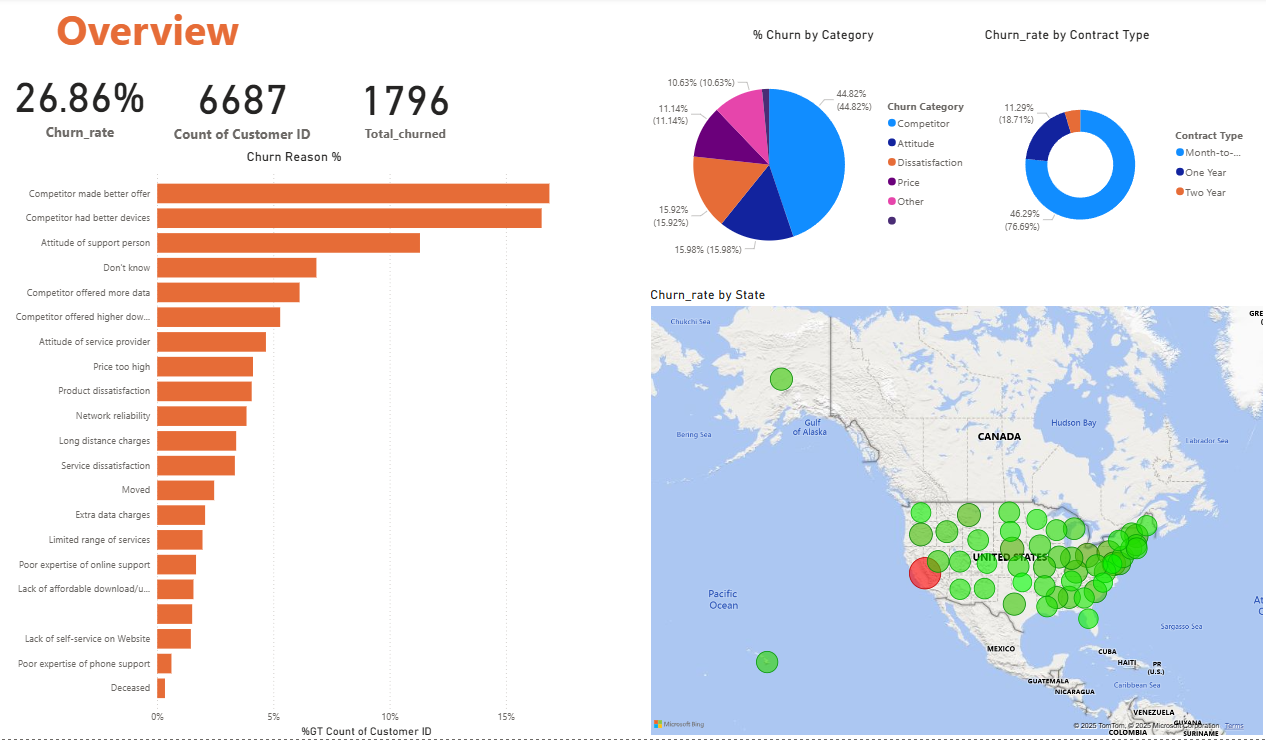

The dashboard page shown, as its layout file describes it:
{"tool":"powerbi","page":{"name":"Dashboard1","canvas":[1640,960],"ordinal":12},"visuals":[{"type":"card","fields":{"Values":["CountNonNull(Data.Customer ID)"]},"box":[206,80.2,214.7,114.9],"z":0},{"type":"card","fields":{"Values":["_Measures.Churn_rate"]},"box":[0,73.7,206,121.4],"z":1000},{"type":"card","fields":{"Values":["_Measures.Total_churn"]},"box":[420.7,80.2,206,114.9],"z":2000},{"type":"clusteredBarChart","title":"Churn Reason %","fields":{"Category":["Data.Churn Reason"],"Y":["CountNonNull(Data.Customer ID)"]},"box":[0,195.2,761.2,765.6],"z":3000},{"type":"pieChart","title":"% Churn by Category","fields":{"Category":["Data.Churn Category"],"Y":["Divide(_Measures.Count_distinct_ID, ScopedEval(_Measures.Count_distinct_ID, []))"]},"box":[837.1,39,431.6,336.2],"z":4000},{"type":"map","fields":{"Category":["Data.State"],"Size":["_Measures.Churn_rate"]},"box":[837.1,375.2,802.4,585.6],"z":5000},{"type":"donutChart","fields":{"Y":["_Measures.Churn_rate"],"Category":["Data.Contract Type"]},"box":[1268.7,39,362.2,336.2],"z":6000},{"type":"textbox","box":[67.2,0,663.6,95.4],"z":6001}]}

Visuals, with their boxes in screenshot pixels (x1, y1, x2, y2), scaled from the page's 1640x960 canvas onto the 1266x740 screenshot:
card - CountNonNull(Data.Customer ID): (x1=159, y1=62, x2=325, y2=150)
card - _Measures.Churn_rate: (x1=0, y1=57, x2=159, y2=150)
card - _Measures.Total_churn: (x1=325, y1=62, x2=484, y2=150)
"Churn Reason %" clusteredBarChart: (x1=0, y1=150, x2=588, y2=739)
"% Churn by Category" pieChart: (x1=646, y1=30, x2=979, y2=289)
map - Data.State x _Measures.Churn_rate: (x1=646, y1=289, x2=1265, y2=739)
donutChart - _Measures.Churn_rate x Data.Contract Type: (x1=979, y1=30, x2=1259, y2=289)
textbox: (x1=52, y1=0, x2=564, y2=74)
